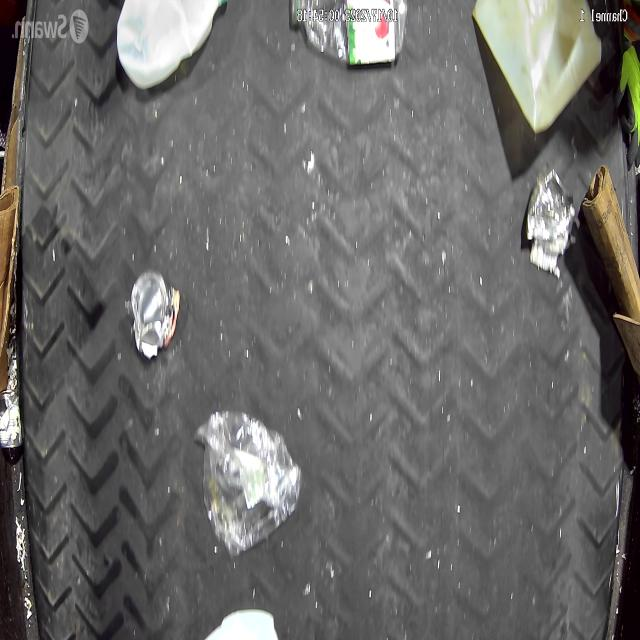can: (130, 270, 174, 360), (0, 389, 24, 448)
milk_jug: (117, 0, 223, 90), (195, 605, 282, 640)
non_white_jug: (470, 0, 600, 132)
plastic_bottle: (290, 0, 408, 64)
